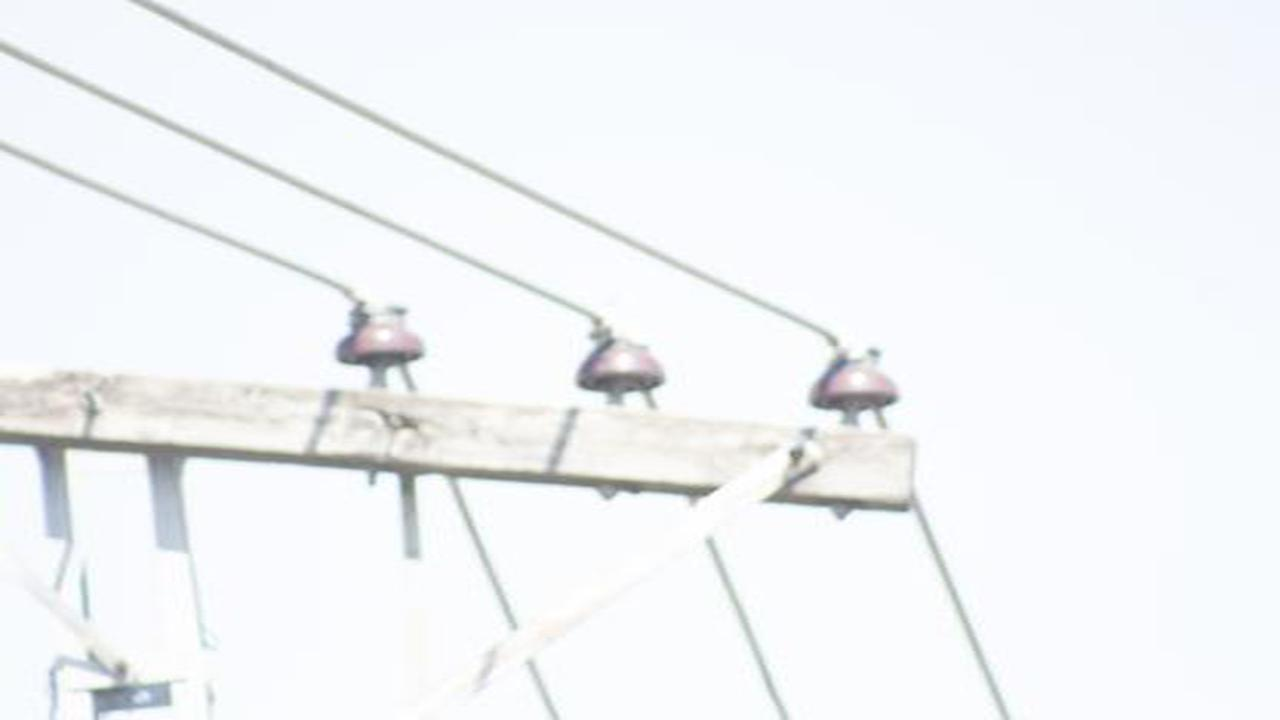insulator_pin: (570, 321, 670, 393), (332, 300, 428, 371), (807, 342, 903, 413)
